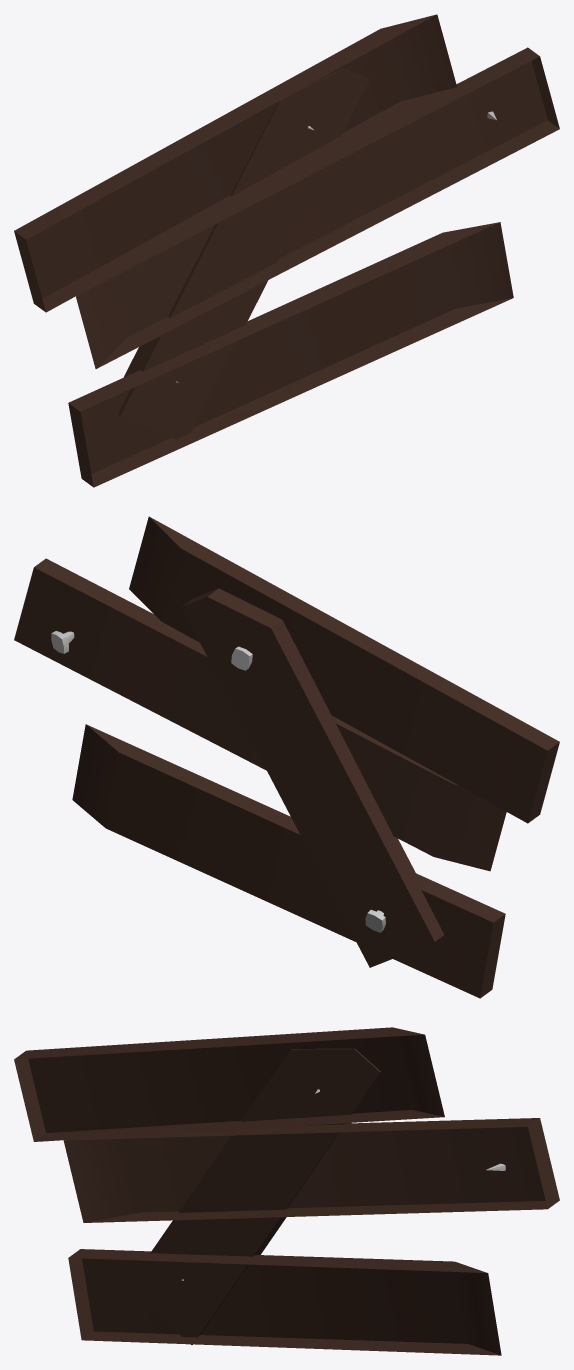
File: Wooden Panels 02.FBX
The picture shows the model from 3 angles, top to bottom: view 1: azimuth 30°, elevation 25°; view 2: azimuth 150°, elevation 25°; view 3: azimuth 330°, elevation 25°; orthographic projection.
Visible parts, largest first — view 1: Wooden Panels 02; view 2: Wooden Panels 02; view 3: Wooden Panels 02.
Part boxes in pixels (left/top/right/bottom): Wooden Panels 02: left=14, top=14, right=559, bottom=487; Wooden Panels 02: left=14, top=516, right=559, bottom=998; Wooden Panels 02: left=14, top=1027, right=559, bottom=1355.
Bounding box in the file's own units: 261 × 182 × 24.91.
